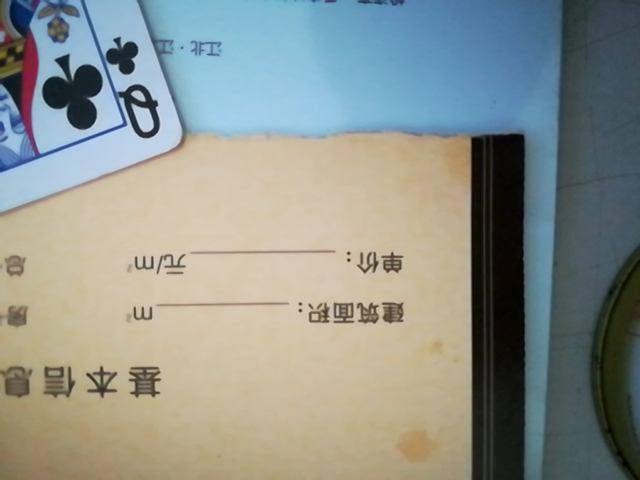mh q: (0, 1, 187, 292)
